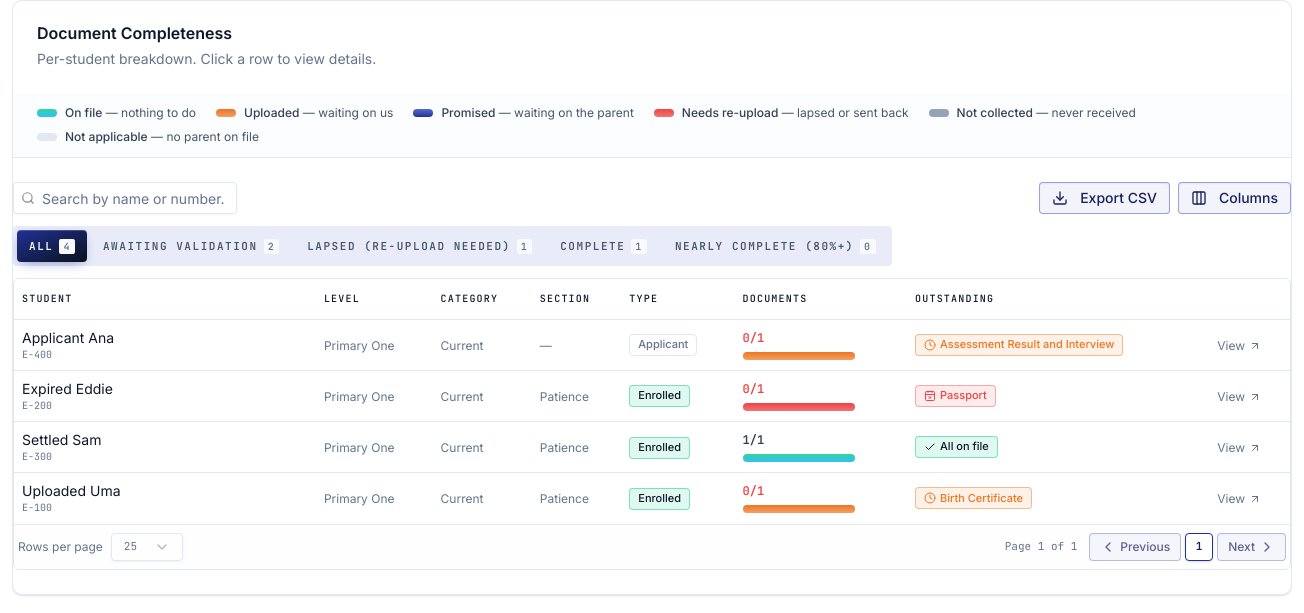
P-Files completeness table — Needs review filter › narrows to students holding a document awaiting a decision
Click the tab "Awaiting validation 2" at x=191, y=246, box [91,230,291,262]
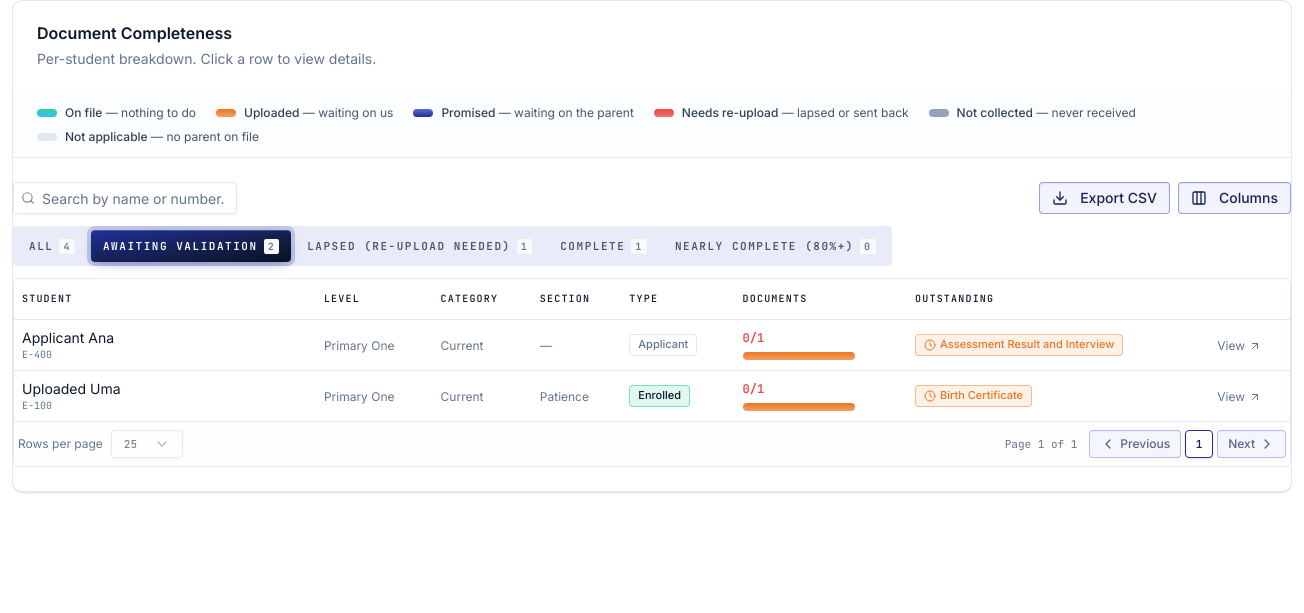
Expected: the table shows "Uploaded Uma", [22,380,121,397]
Result: the text "Expired Eddie" is gone
Result: the text "Settled Sam" is gone
